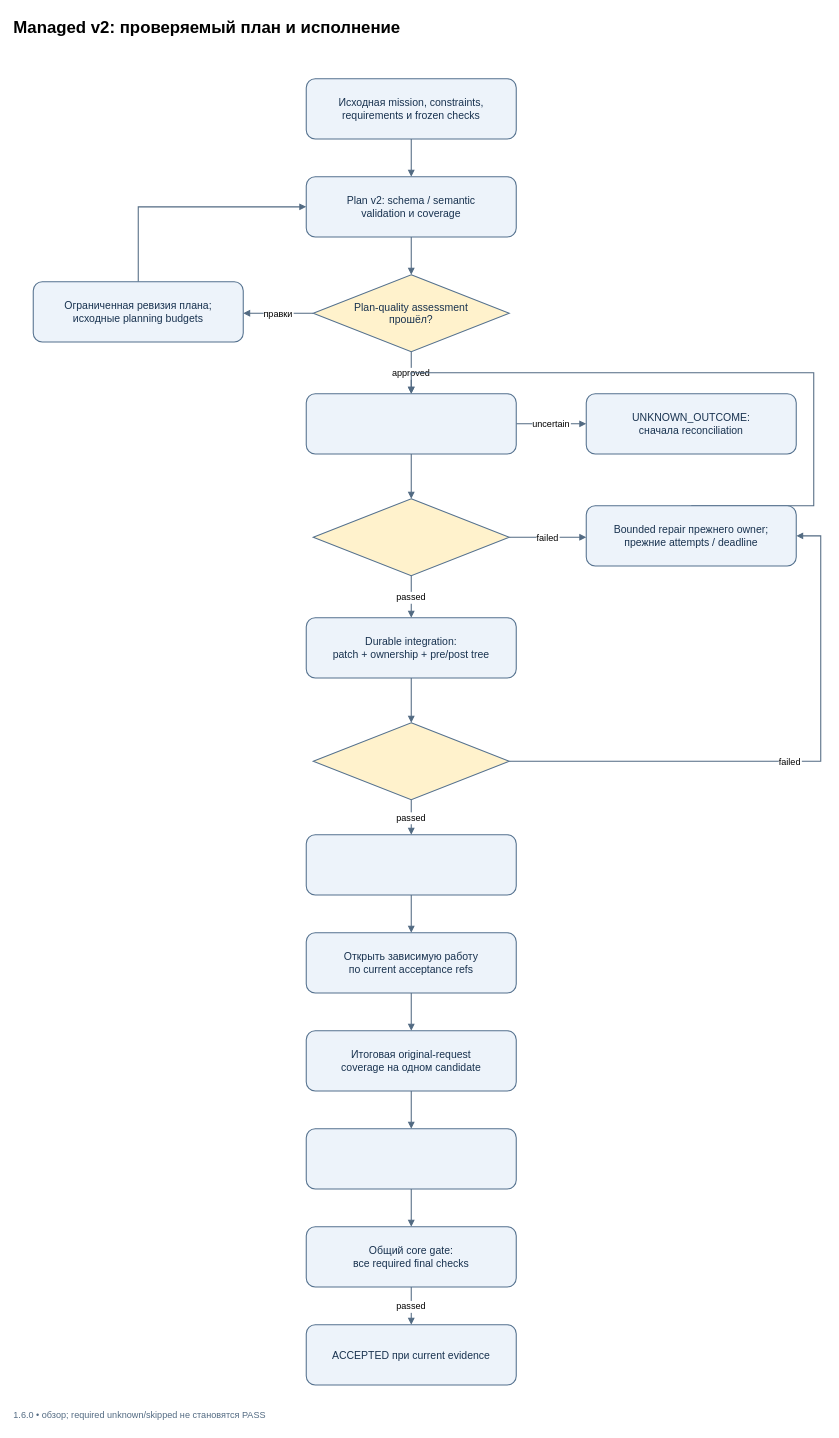
Some shapes in this 839 by 1438 pixel diagram are drawn without their labels. The shapes that lost their labels are listed below. From the top down, each one's centre as x and y in pixels, then its label:
pixel 410 423: Worker: owned worktree, exact session и исходный budget
pixel 410 537: Local frozen checks прошли?
pixel 410 761: Integrated checks прошли?
pixel 410 864: Current node acceptance receipt
pixel 410 1158: Fresh final review v3: requirements + raw evidence
